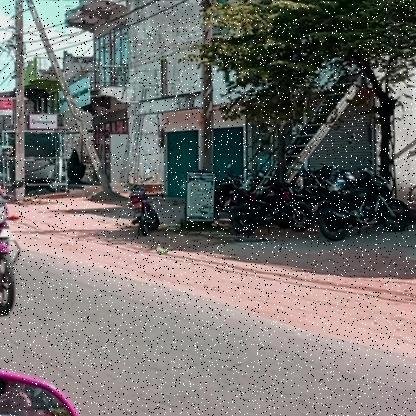motorcycle: (0, 188, 26, 317)
